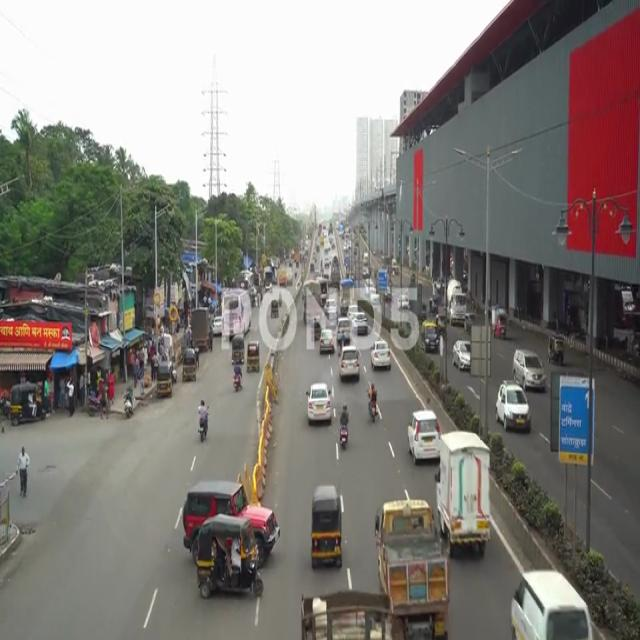car: (502, 566, 606, 639), (492, 381, 538, 440), (302, 377, 332, 429)
motorbike: (194, 398, 210, 442), (339, 398, 351, 452), (366, 378, 378, 426)
person: (16, 444, 30, 502)
rikshaw: (197, 514, 269, 600), (310, 482, 344, 568)
truck: (368, 496, 464, 640), (436, 429, 494, 565)
